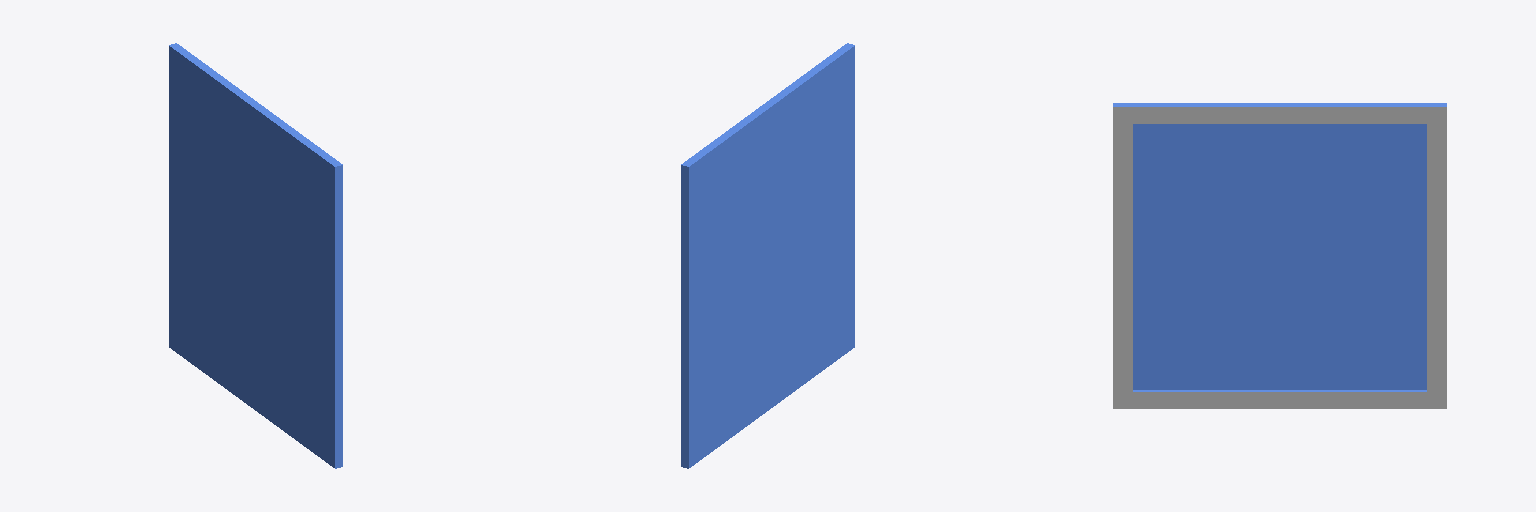
Rendered from glassPanel.obj.
3 views of the same model, side by side, from view 1: azimuth 30°, elevation 25°; view 2: azimuth 150°, elevation 25°; view 3: azimuth 270°, elevation 25° (orthographic).
Visible parts, largest first — view 1: Plane_Glass.001; view 2: Plane_Glass.001; view 3: Plane_Glass.001, Plane_Frame.001.
Boxes of the visible parts, x1=… form: Plane_Glass.001: x1=169, y1=43, x2=342, y2=468; Plane_Glass.001: x1=681, y1=43, x2=854, y2=468; Plane_Glass.001: x1=1113, y1=103, x2=1446, y2=391; Plane_Frame.001: x1=1113, y1=107, x2=1446, y2=408.
Bounding box in the file's own units: 0.0646 × 2.22 × 2.22.